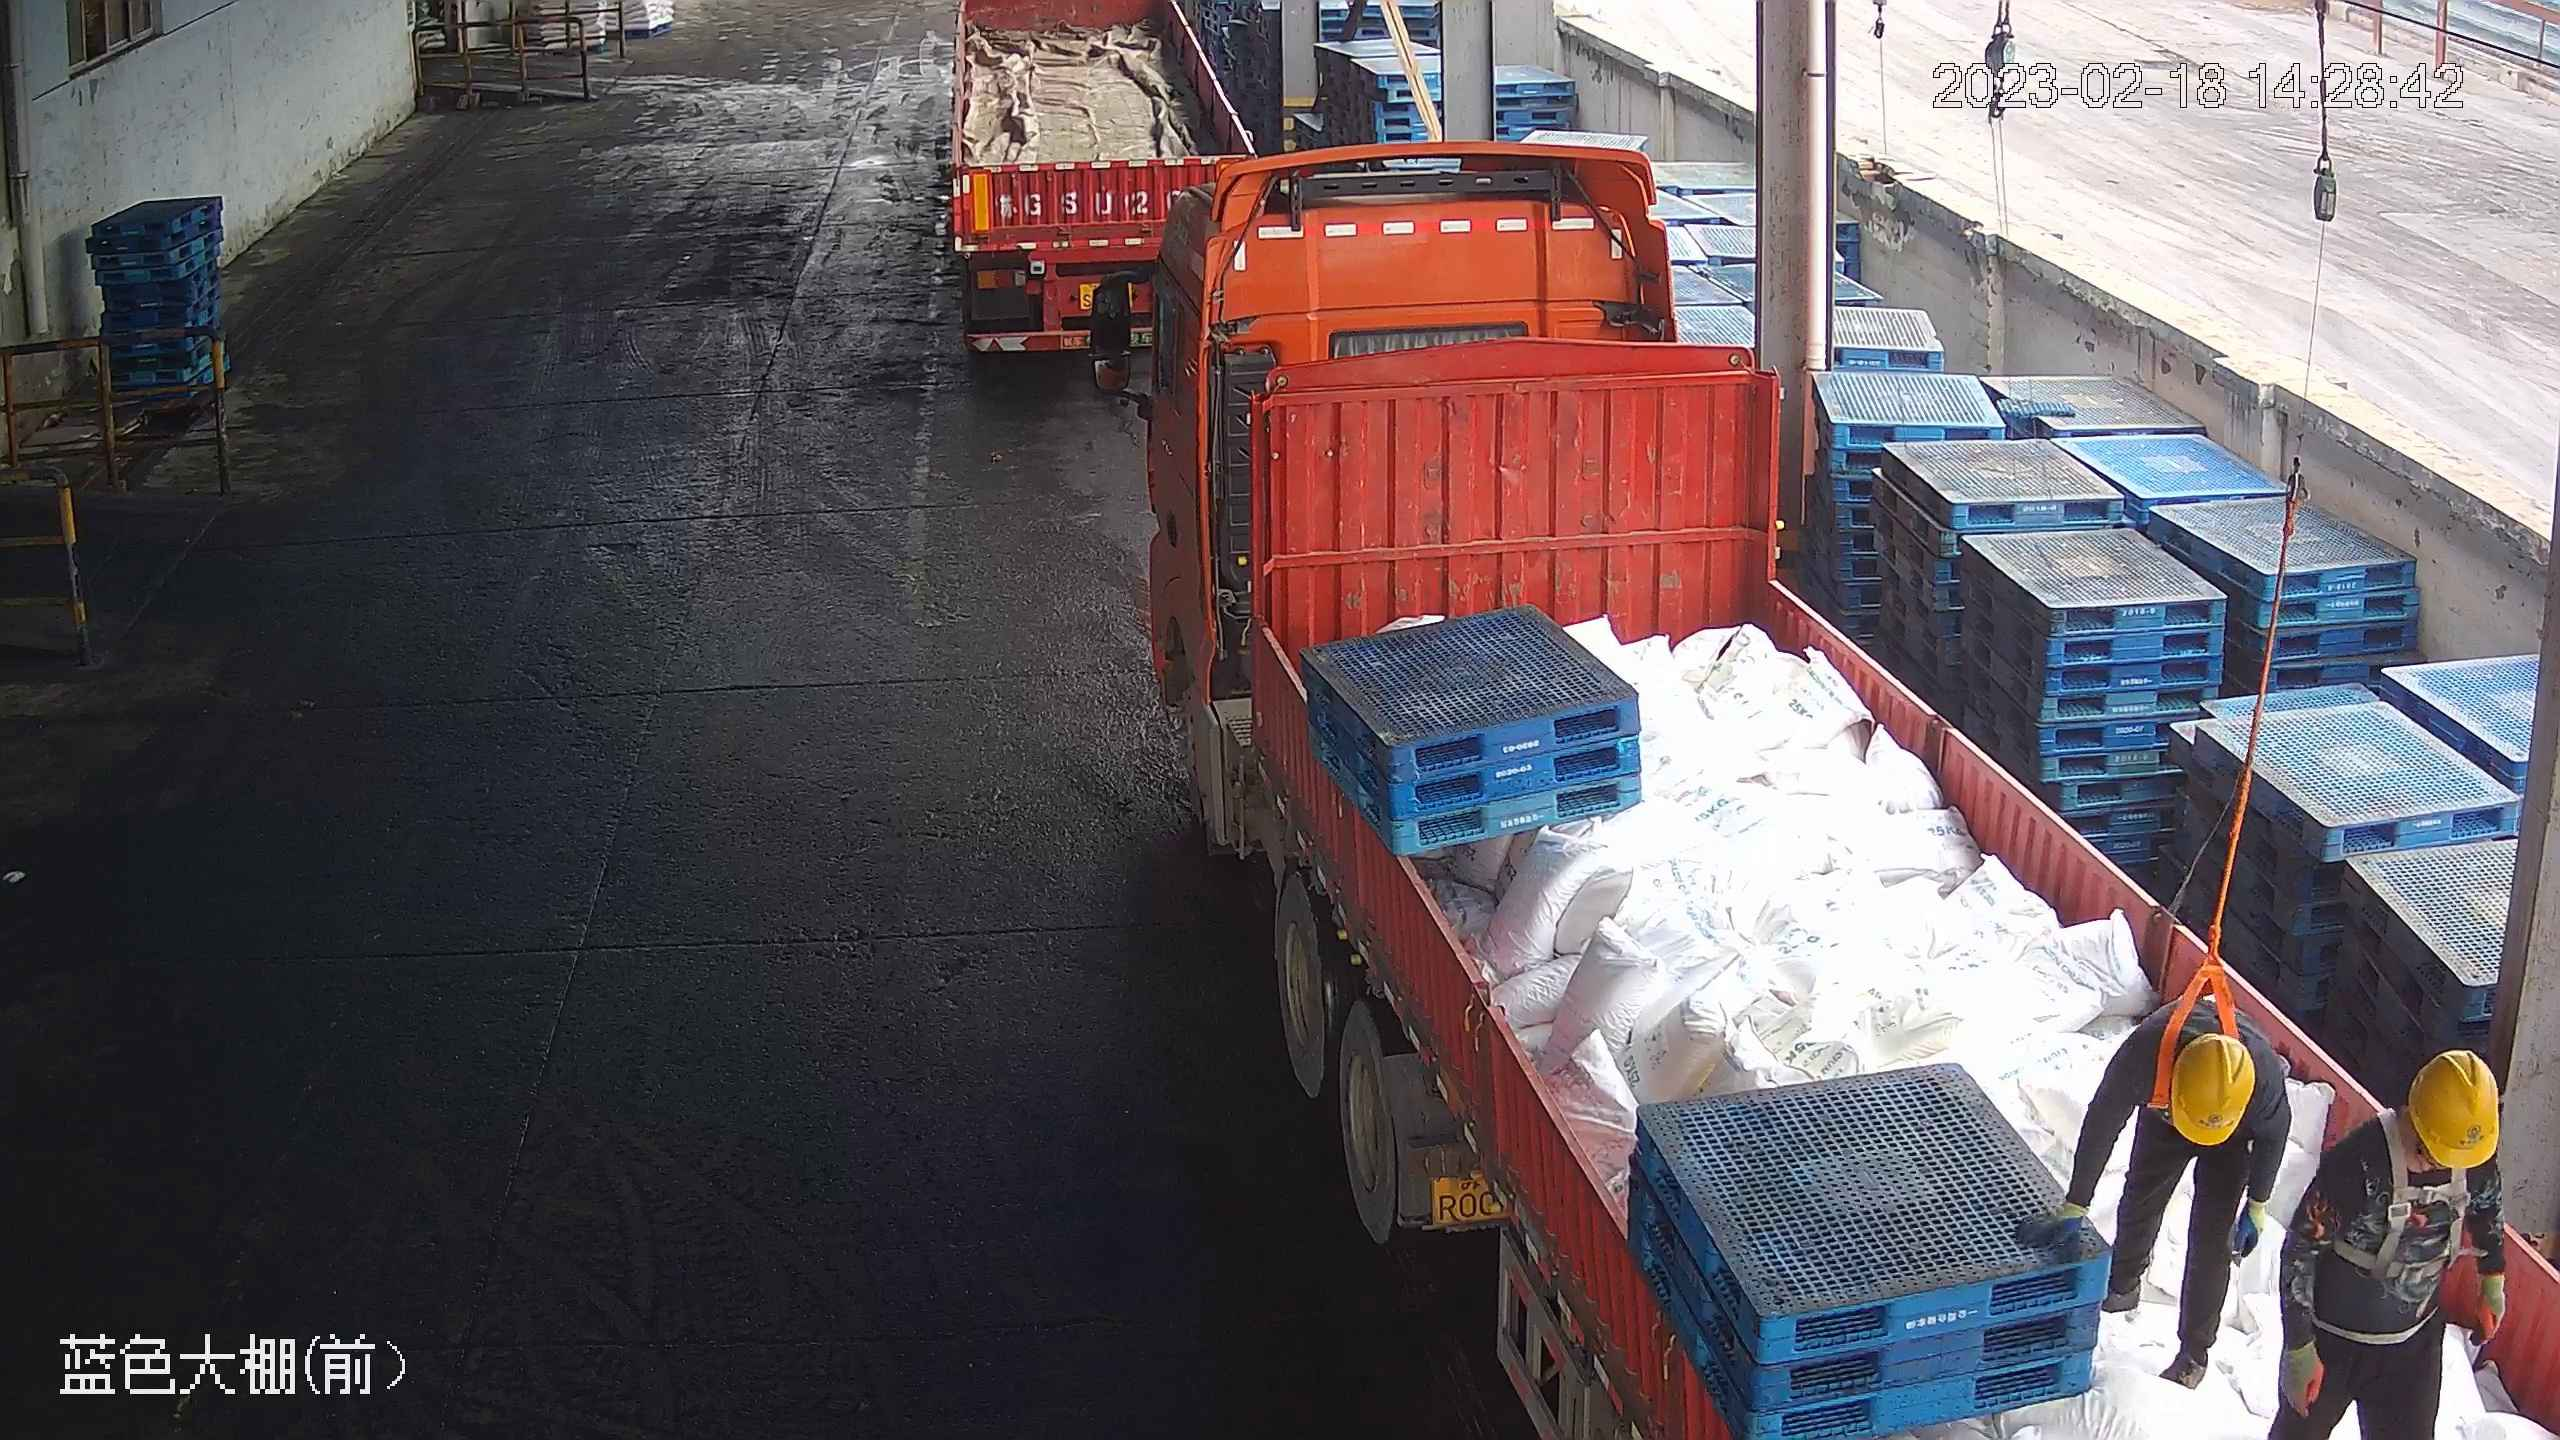belt: (2365, 1117, 2477, 1265), (2154, 938, 2255, 1076)
head: (2320, 1046, 2504, 1201), (2120, 1012, 2286, 1150)
helmet: (2401, 1046, 2501, 1168), (2163, 1030, 2260, 1143)
people: (2270, 1048, 2507, 1440), (2060, 991, 2290, 1389)
truck: (1087, 142, 2548, 1440), (949, 1, 1261, 355)
